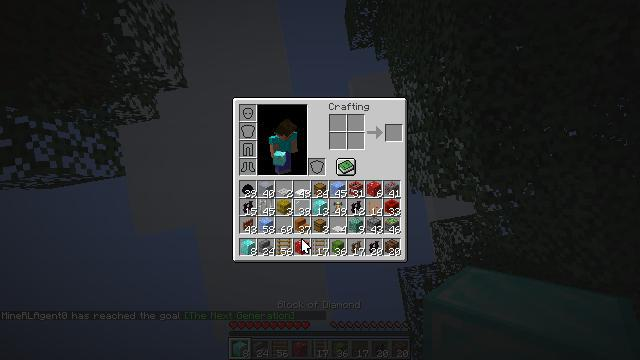cursor: (301, 238, 311, 254)
